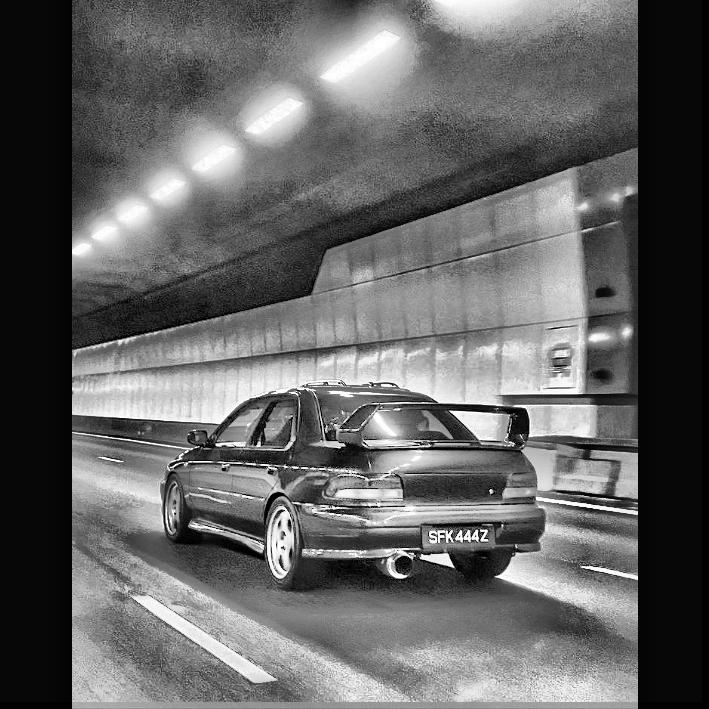License-Plates: (421, 526, 494, 548)
